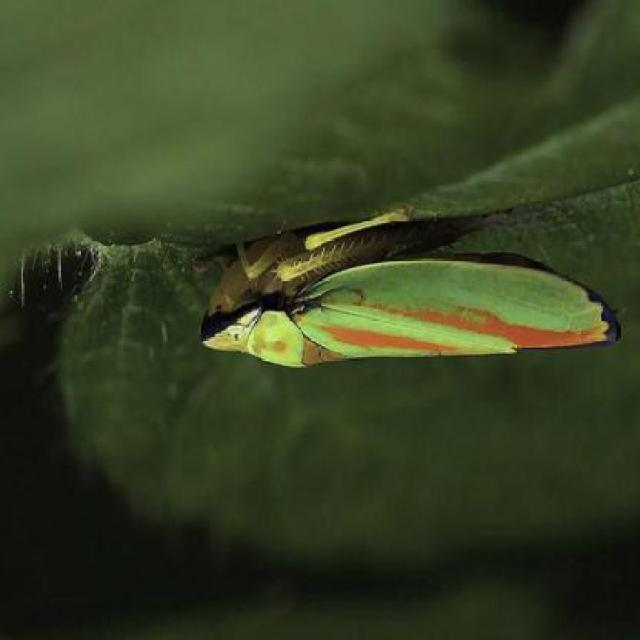green-leafhopper: (187, 245, 618, 370)
